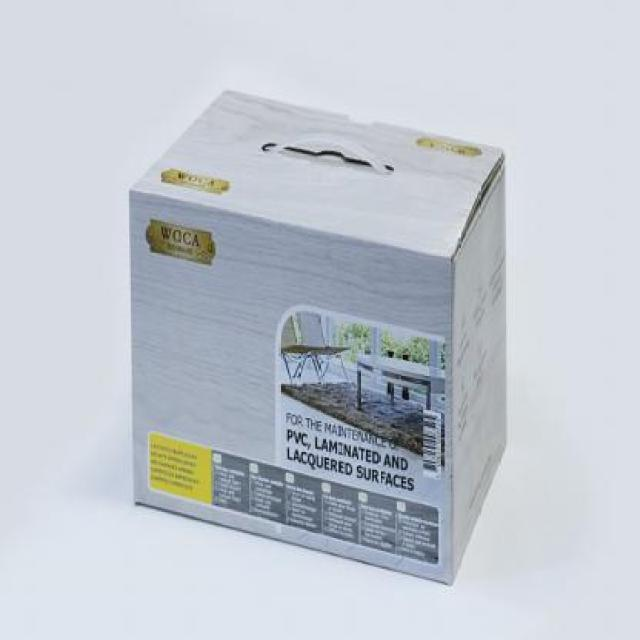box: (123, 68, 522, 601)
